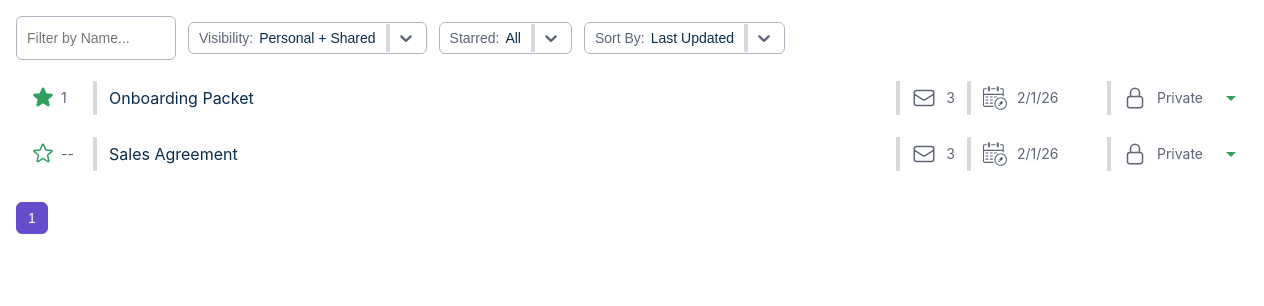
Test: VerdocsTemplatesListComponent › offers Sign Now as a disabled menu item and omits Delete
The width and height of the screenshot is (1264, 306).
Click the button named "Open menu" in the row of "Onboarding Packet": (1231, 98) [1215, 82, 1247, 114]
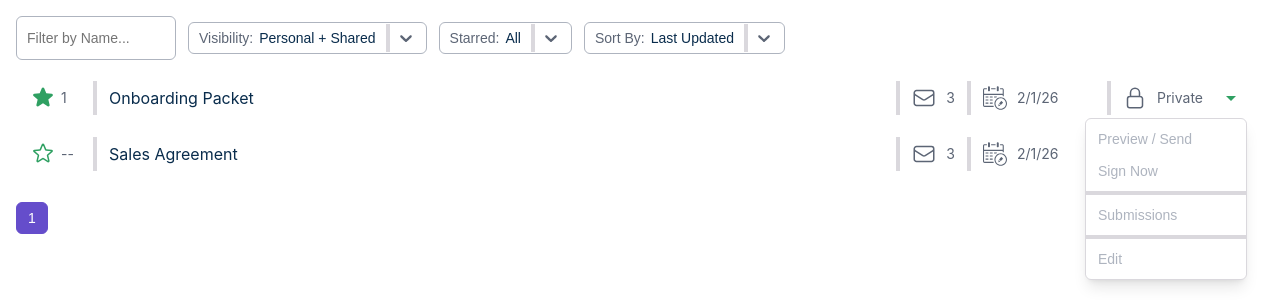
Expected: the menu item "Sign Now" is shown, [1086, 155, 1246, 187]
